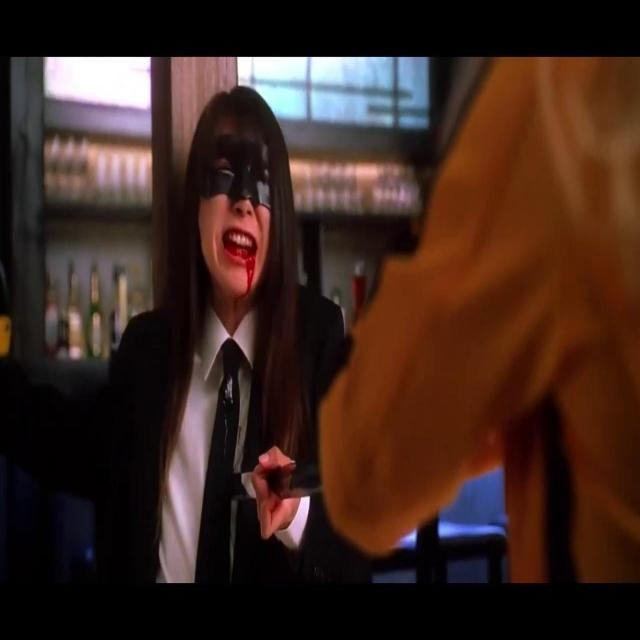flood: (214, 224, 258, 327)
